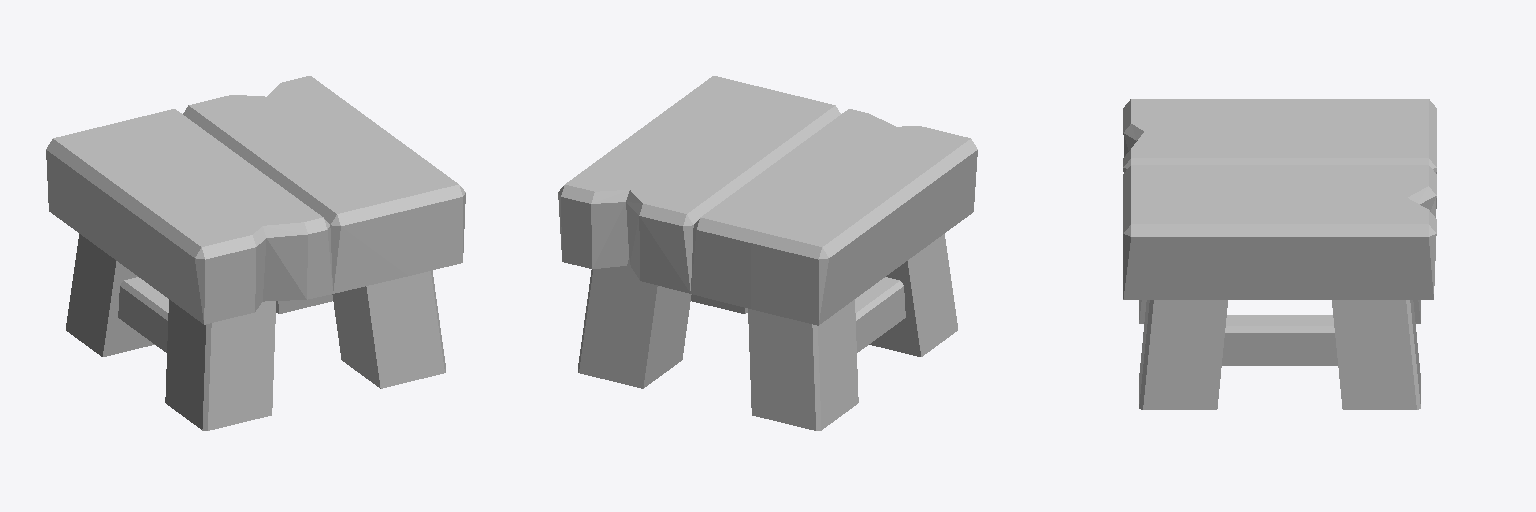
Rendered from stool.obj.
The picture shows the model from 3 angles: view 1: azimuth 30°, elevation 25°; view 2: azimuth 150°, elevation 25°; view 3: azimuth 270°, elevation 25°; orthographic projection.
Parts seen in each view (by area): view 1: stool; view 2: stool; view 3: stool.
Part boxes in pixels (bbox=[...]): stool: bbox=[46, 76, 465, 430]; stool: bbox=[558, 76, 977, 430]; stool: bbox=[1123, 99, 1436, 409].
Size of the model in its own units: 0.75 by 0.5 by 0.75.